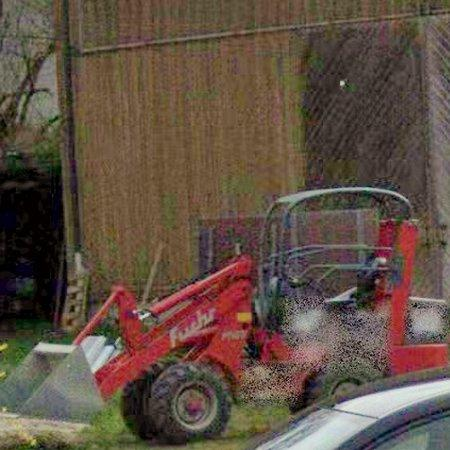tractors: (0, 187, 448, 444)
